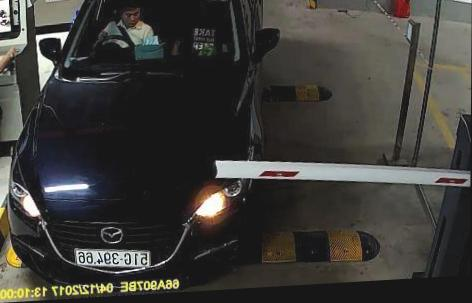License_Plate: (72, 242, 152, 274)
